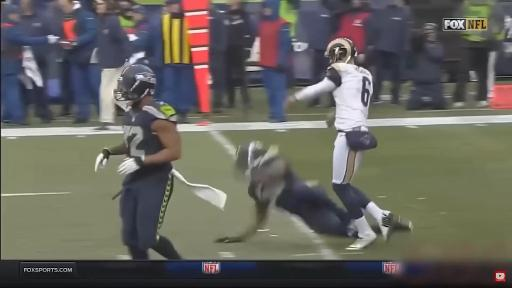Helmet: (114, 65, 155, 102), (235, 142, 266, 173), (325, 38, 357, 63)
Jersey: (326, 63, 372, 130), (123, 101, 176, 157), (276, 168, 313, 213)
Player: (287, 38, 393, 249), (95, 65, 181, 259), (216, 142, 357, 242)
